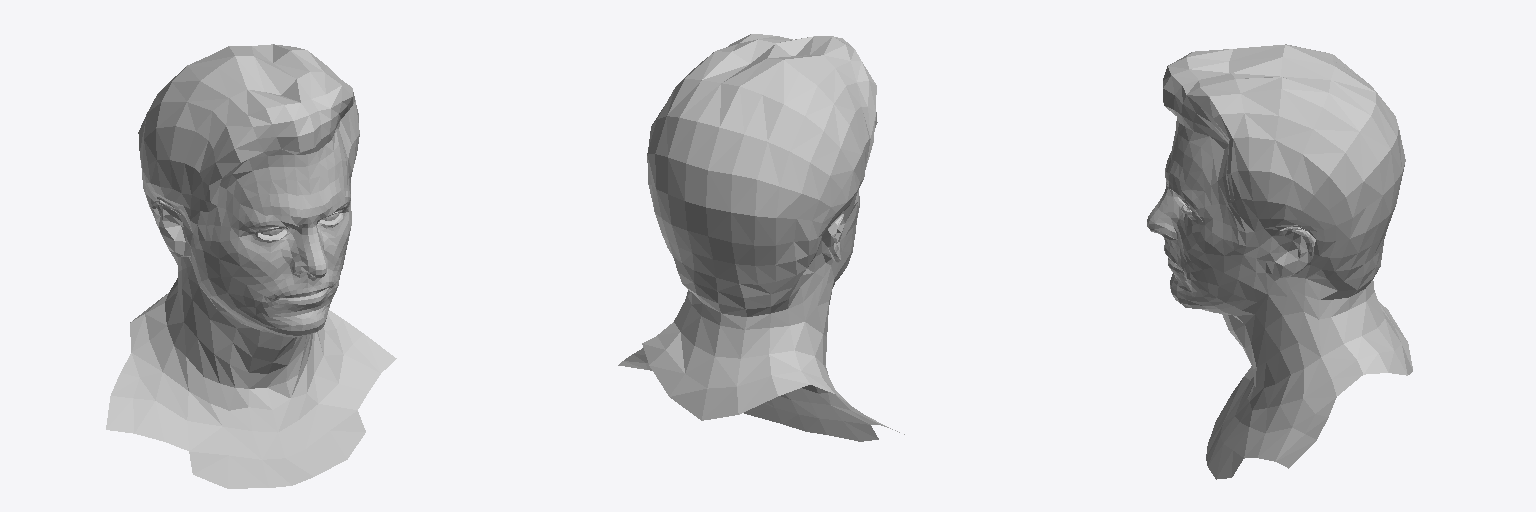
Rendered from moze___.obj.
The picture shows the model from 3 angles: view 1: azimuth 30°, elevation 25°; view 2: azimuth 150°, elevation 25°; view 3: azimuth 270°, elevation 25°; orthographic projection.
Visible parts, largest first — view 1: theillusiveman_illHead; view 2: theillusiveman_illHead; view 3: theillusiveman_illHead.
Boxes of the visible parts, x1=… form: theillusiveman_illHead: x1=106, y1=44, x2=396, y2=488; theillusiveman_illHead: x1=618, y1=34, x2=904, y2=441; theillusiveman_illHead: x1=1147, y1=44, x2=1412, y2=479.
Bounding box in the file's own units: 11.41 × 15.17 × 9.06.